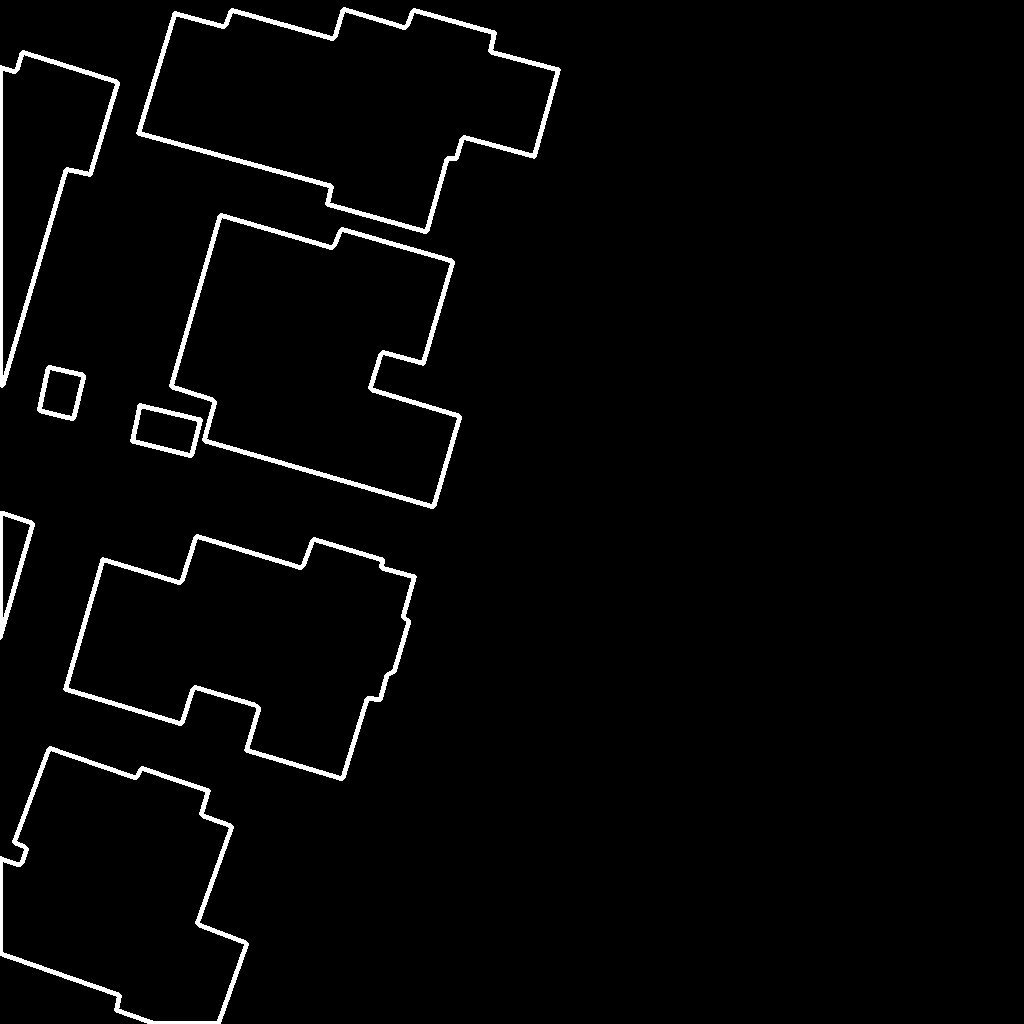building: (138, 9, 560, 233), (65, 536, 416, 780), (171, 215, 461, 508), (0, 748, 248, 1024), (0, 52, 119, 387), (0, 513, 34, 640), (132, 405, 202, 457), (39, 367, 85, 420)
